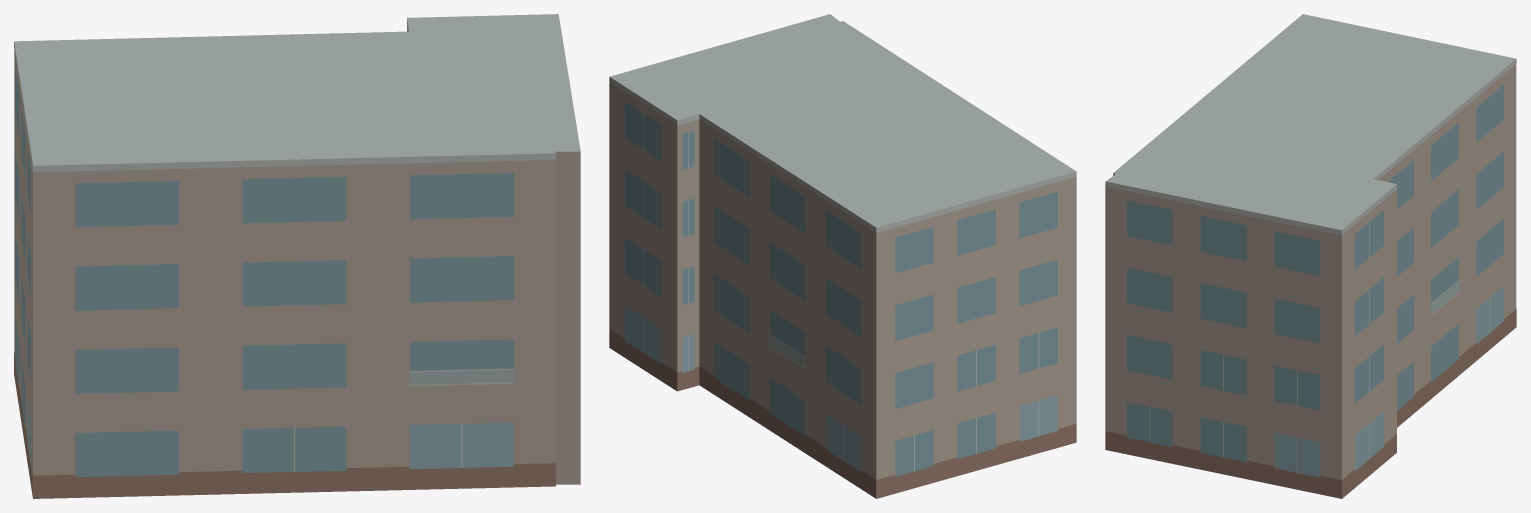
Rendered from survey-upis-32581415.glb.
3 views of the same model, side by side, from view 1: azimuth 30°, elevation 25°; view 2: azimuth 150°, elevation 25°; view 3: azimuth 270°, elevation 25° (orthographic). The views are drawn at different scales.
Visible parts, largest first — view 1: survey-upis-32581415.tmp; view 2: survey-upis-32581415.tmp; view 3: survey-upis-32581415.tmp.
Boxes of the visible parts, box(x1,y1,x2,y2) form: survey-upis-32581415.tmp: box(14, 14, 580, 498); survey-upis-32581415.tmp: box(609, 14, 1076, 498); survey-upis-32581415.tmp: box(1105, 14, 1516, 498).
Size of the model in its own units: 21.6 by 12.5 by 17.35.
